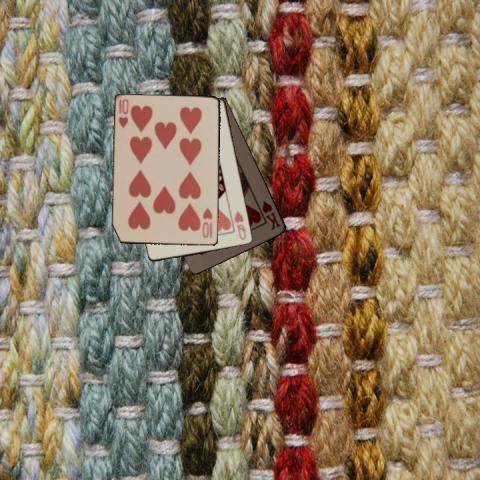10h: (199, 205, 214, 239), (115, 96, 130, 129)
Kh: (259, 198, 282, 231)
Qh: (231, 208, 248, 242)
